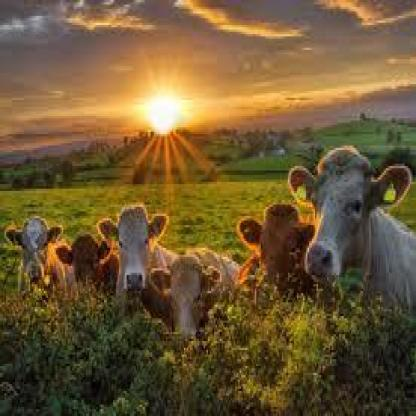cow: (288, 145, 416, 316), (99, 206, 174, 335), (150, 245, 240, 341), (237, 204, 316, 312), (5, 216, 78, 302), (55, 233, 120, 299)
